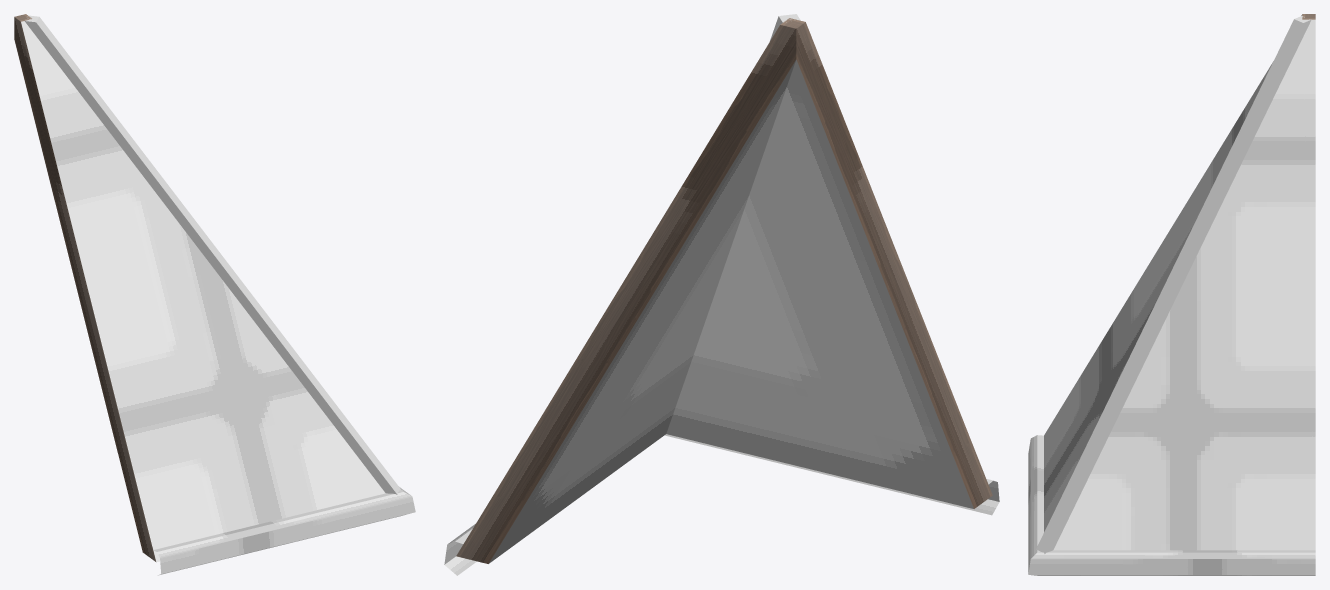
The model's file is SM_Roof_Corner_06.fbx.
3 views of the same model, side by side, from view 1: azimuth 30°, elevation 25°; view 2: azimuth 150°, elevation 25°; view 3: azimuth 270°, elevation 25° (orthographic). The views are drawn at different scales.
Visible parts, largest first — view 1: SM_Roof_Corner_06_LOD0; view 2: SM_Roof_Corner_06_LOD0; view 3: SM_Roof_Corner_06_LOD0.
Boxes of the visible parts, box(x1,y1,x2,y2) form: SM_Roof_Corner_06_LOD0: box(14, 14, 415, 575); SM_Roof_Corner_06_LOD0: box(444, 14, 999, 575); SM_Roof_Corner_06_LOD0: box(1028, 14, 1315, 575).
Size of what is drawn, in the model's own units: 5.43 by 9.29 by 5.43.
